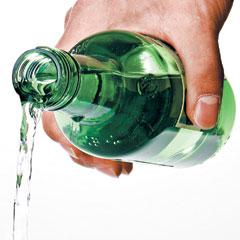soju: (12, 30, 236, 168)
